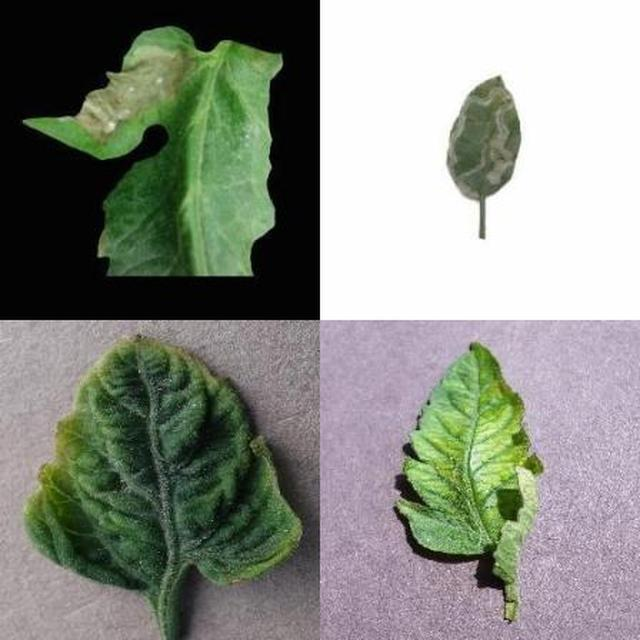Late Blight Leaf: (104, 181, 640, 640)
